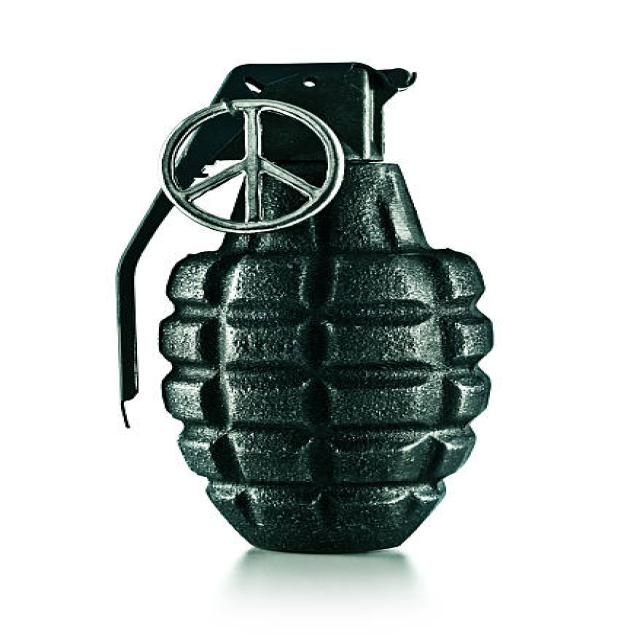grenade: (107, 57, 506, 561)
